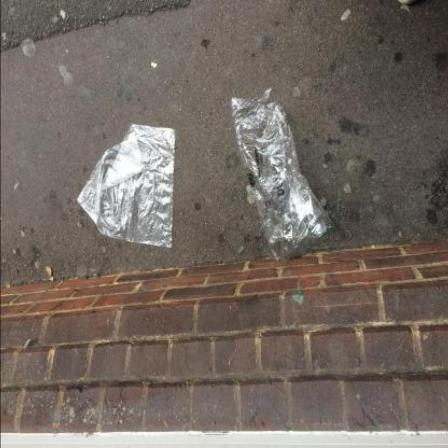Plastic bag - wrapper: (232, 90, 333, 265), (78, 125, 176, 249)
